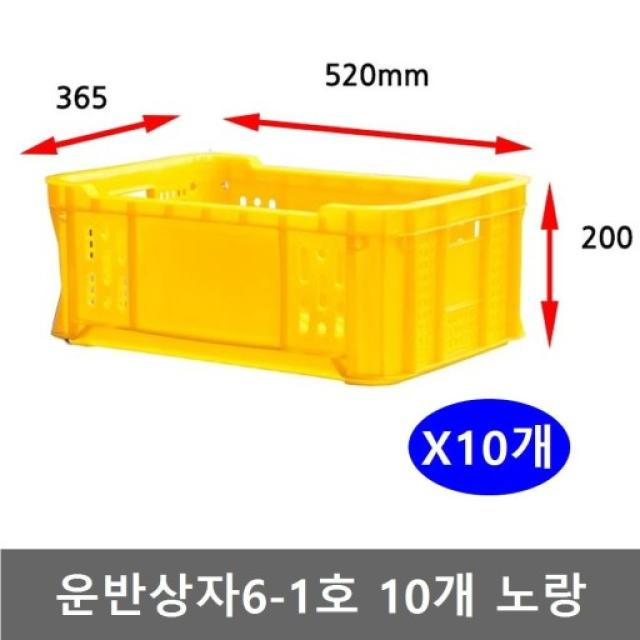basket: (32, 140, 536, 397)
